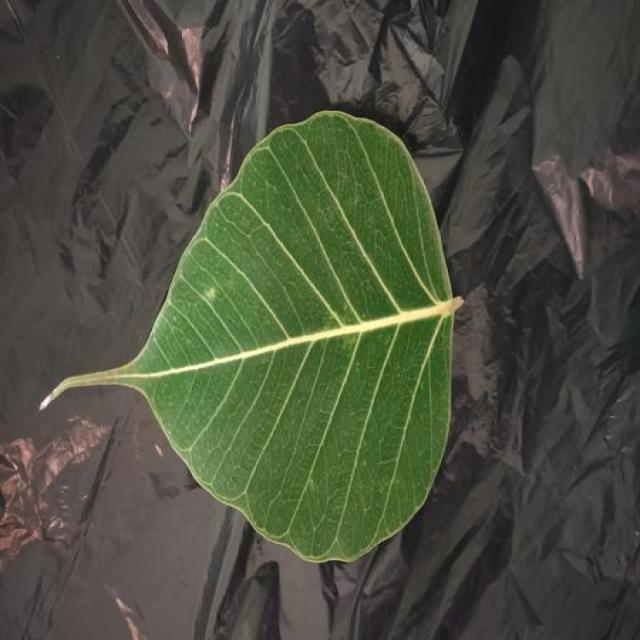arali: (42, 111, 460, 562)
defected arali: (40, 111, 462, 562)
